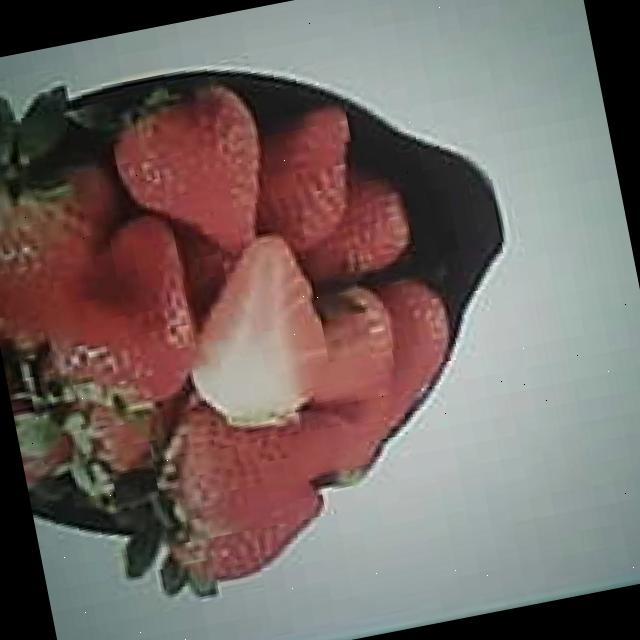strawberry: (30, 208, 205, 420), (103, 78, 274, 268)
